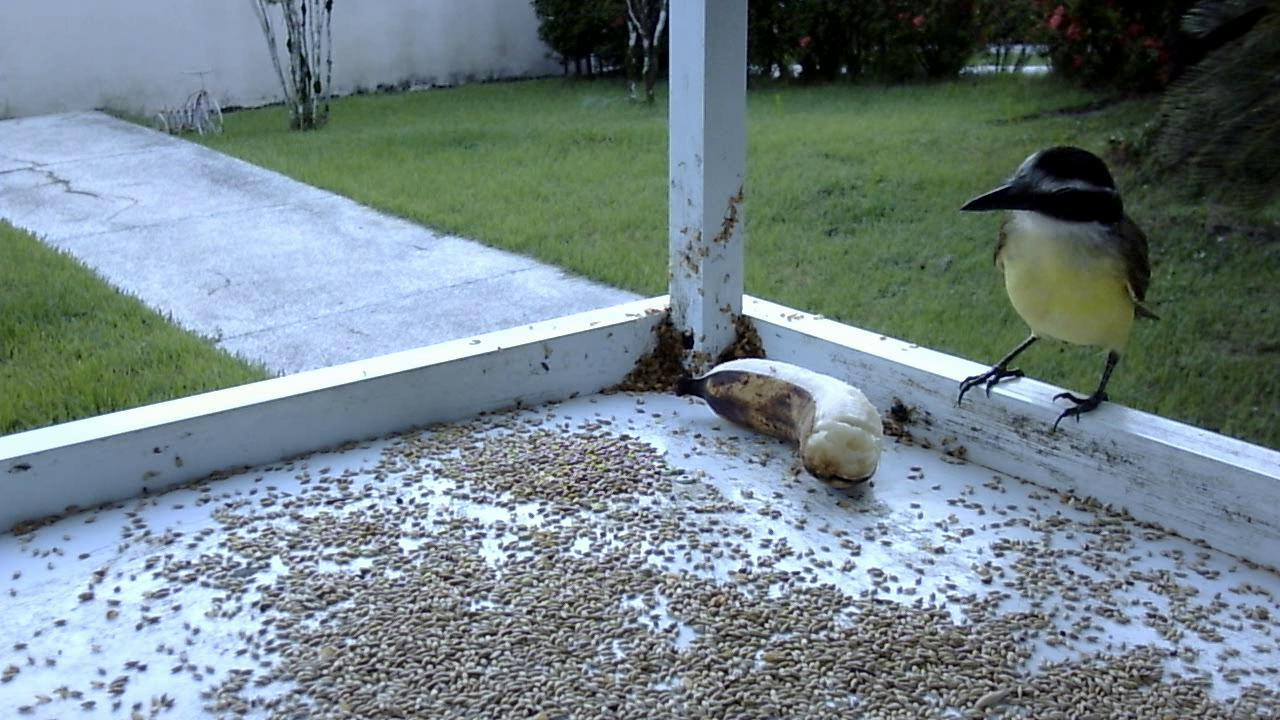bem_te_vi: (944, 133, 1166, 447)
